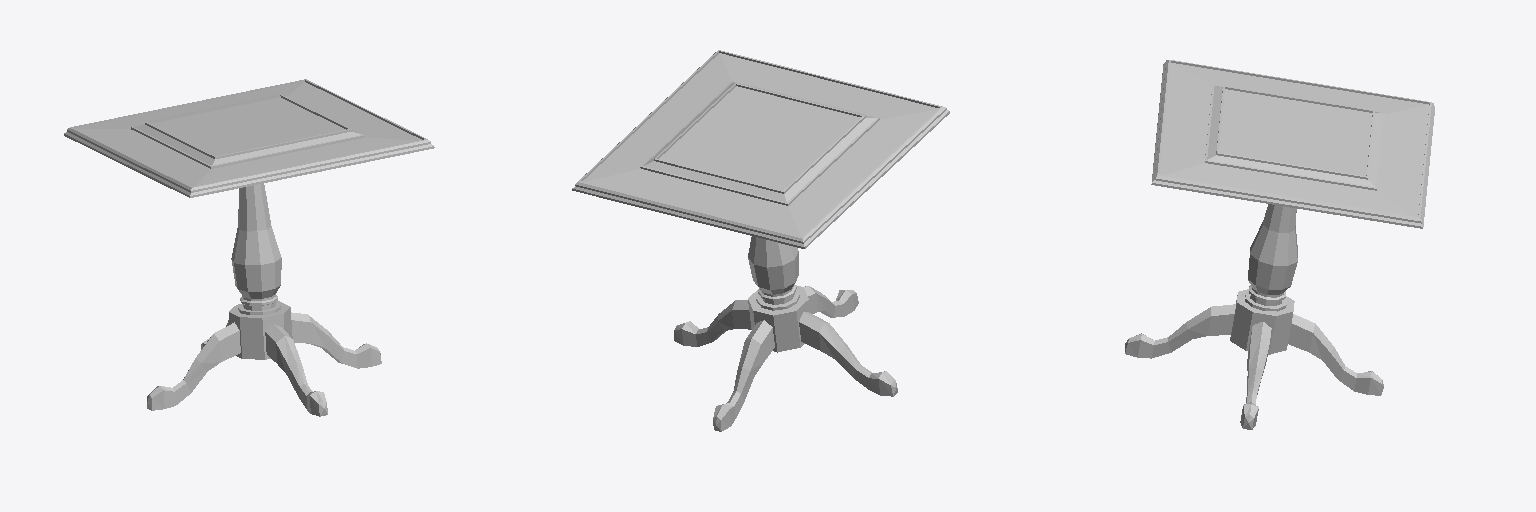
Rendered from file_FallingCube.004.obj.
The picture shows the model from 3 angles: view 1: azimuth 30°, elevation 25°; view 2: azimuth 150°, elevation 25°; view 3: azimuth 270°, elevation 25°; orthographic projection.
Visible parts, largest first — view 1: file_FallingCube.004; view 2: file_FallingCube.004; view 3: file_FallingCube.004.
Boxes of the visible parts, x1=… form: file_FallingCube.004: x1=64, y1=79, x2=434, y2=416; file_FallingCube.004: x1=572, y1=50, x2=949, y2=431; file_FallingCube.004: x1=1125, y1=60, x2=1434, y2=429.
Bounding box in the file's own units: 2.83 × 3 × 3.07.